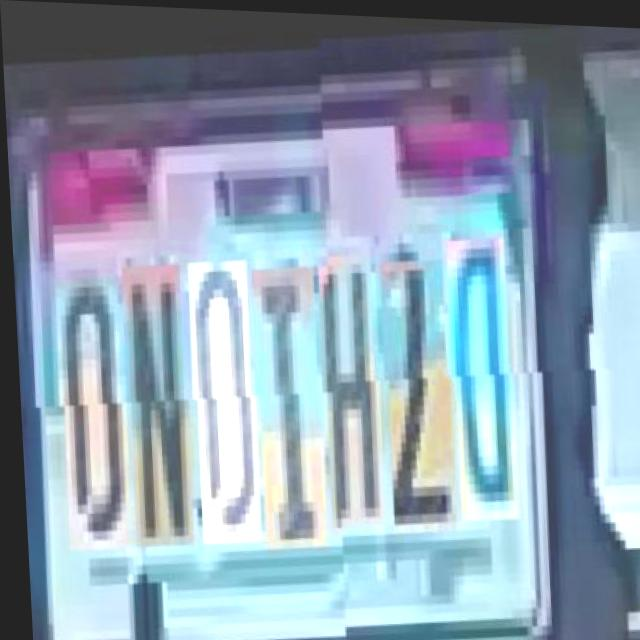0: (46, 252, 123, 531), (179, 238, 253, 527)
7: (372, 248, 449, 527)
d: (438, 227, 511, 515)
h: (309, 243, 376, 521)
i: (242, 244, 320, 533)
n: (112, 241, 185, 529)
